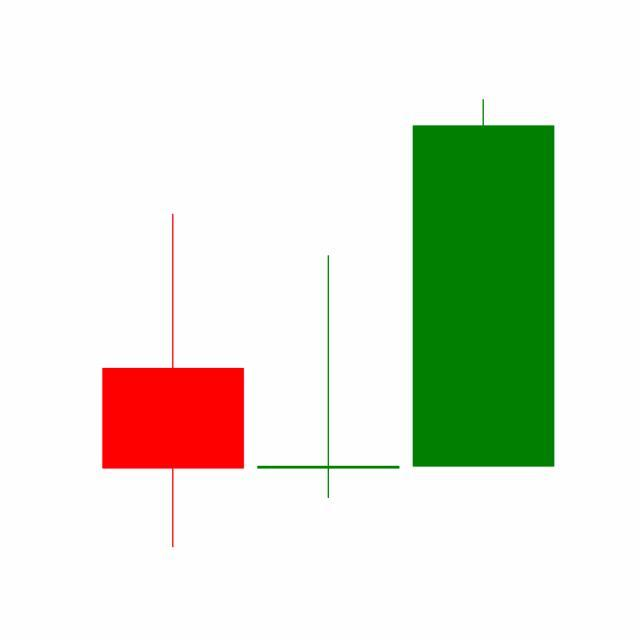Spinning Top: (250, 253, 407, 502)
